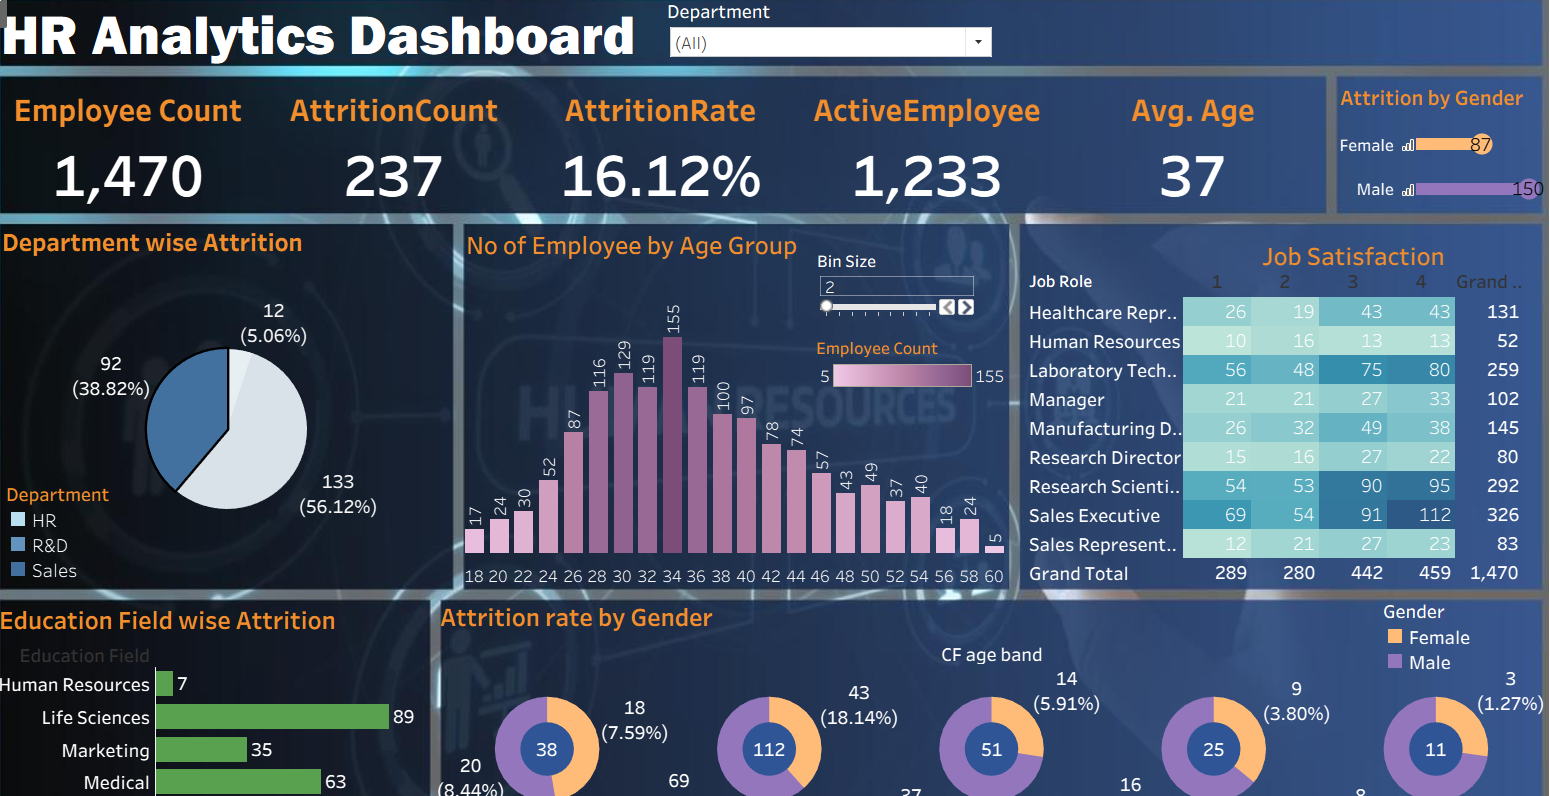

Layout of this report page (visuals, bound fields, positions):
{"tool":"tableau","page":{"name":"Dashboard 1","canvas":[1580,900],"ordinal":0},"visuals":[{"type":"image","param":"Image/HR background.pptx.jpg","box":[8,8,1564,884]},{"type":"text","box":[16,16,986,77]},{"type":"filter","title":"Department wise Attrition","param":"[federated.14l03xg0x1pyo311y3fep08biftx].[none:Department:nk]","box":[686,18,328,68]},{"type":"worksheet","title":"KPI","mark":"Automatic","box":[14,94,1331,145]},{"type":"worksheet","title":" Attrition by Gender","mark":"Automatic","rows":["Gender"],"cols":["Calculation_1713619693884092416","Calculation_1713619693884092416"],"box":[1355,99,210,132]},{"type":"worksheet","title":"Department wise Attrition","mark":"Pie","box":[17,241,458,368]},{"type":"worksheet","title":"No of Employee by Age Group","mark":"Automatic","rows":["Employee Count"],"cols":["Age (bin)"],"box":[481,244,545,364]},{"type":"worksheet","title":"Job Satisfaction Rating","mark":"Square","rows":["Job Role"],"cols":["Job Satisfaction"],"box":[1042,265,515,378]},{"type":"parameter","param":"[Parameters].[Parameter 1]","box":[836,270,160,81]},{"type":"legend","title":"No of Employee by Age Group","param":"[federated.14l03xg0x1pyo311y3fep08biftx].[sum:Employee Count:qk]","box":[835,357,193,66]},{"type":"legend","title":"Department wise Attrition","param":"[federated.14l03xg0x1pyo311y3fep08biftx].[none:Department:nk]","box":[25,501,140,101]},{"type":"worksheet","title":"Attrition rate by Gender","mark":"Pie","rows":["Calculation_1713619693967122436","Calculation_1713619693967122436"],"cols":["CF_age band"],"box":[455,616,1111,267]},{"type":"legend","title":"Attrition rate by Gender","param":"[federated.14l03xg0x1pyo311y3fep08biftx].[none:Gender:nk]","box":[1402,618,160,88]},{"type":"worksheet","title":"Education Field wise Attrition","mark":"Automatic","rows":["Education Field"],"cols":["Calculation_1713619693884092416"],"box":[14,619,436,265]}]}

Visuals, with their boxes on the page's 1580x900 design canvas (x1, y1, x2, y2). These are canvas units, not pixel positions in the 1550x796 screenshot, which may show the page scaled, cropped or inside an application window:
image: <bbox>8, 8, 1572, 892</bbox>
text: <bbox>16, 16, 1002, 93</bbox>
"Department wise Attrition" filter: <bbox>686, 18, 1014, 86</bbox>
"KPI" worksheet: <bbox>14, 94, 1345, 239</bbox>
" Attrition by Gender" worksheet: <bbox>1355, 99, 1565, 231</bbox>
"Department wise Attrition" worksheet (Pie marks): <bbox>17, 241, 475, 609</bbox>
"No of Employee by Age Group" worksheet: <bbox>481, 244, 1026, 608</bbox>
"Job Satisfaction Rating" worksheet (Square marks): <bbox>1042, 265, 1557, 643</bbox>
parameter: <bbox>836, 270, 996, 351</bbox>
"No of Employee by Age Group" legend: <bbox>835, 357, 1028, 423</bbox>
"Department wise Attrition" legend: <bbox>25, 501, 165, 602</bbox>
"Attrition rate by Gender" worksheet (Pie marks): <bbox>455, 616, 1566, 883</bbox>
"Attrition rate by Gender" legend: <bbox>1402, 618, 1562, 706</bbox>
"Education Field wise Attrition" worksheet: <bbox>14, 619, 450, 884</bbox>
